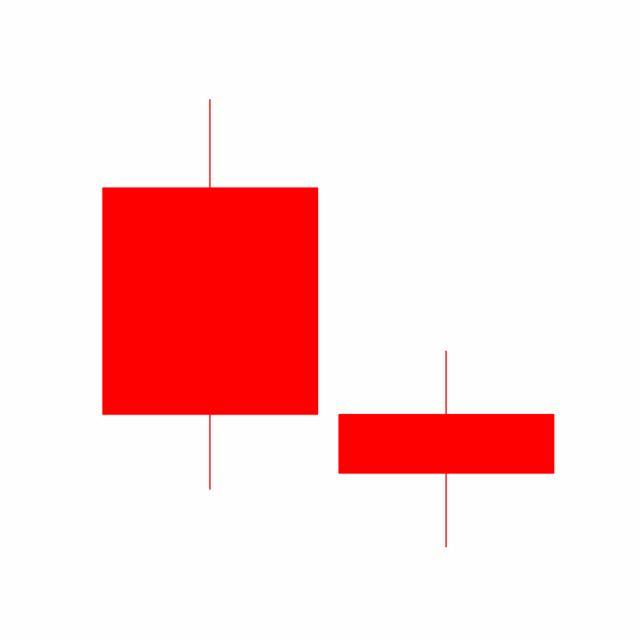Spinning Top: (328, 349, 566, 550)
